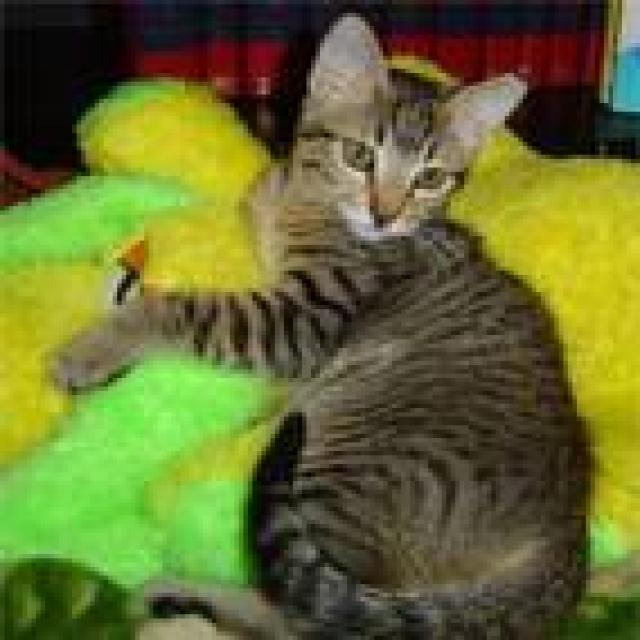cat: (45, 9, 590, 636)
